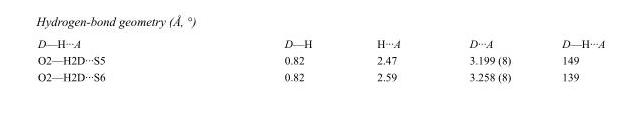table: (37, 36, 604, 82)
table column: (37, 36, 194, 82), (194, 36, 343, 82), (434, 36, 535, 82), (343, 36, 434, 82), (535, 36, 604, 82)
table row: (37, 51, 604, 68), (37, 36, 604, 51), (37, 68, 604, 82)
